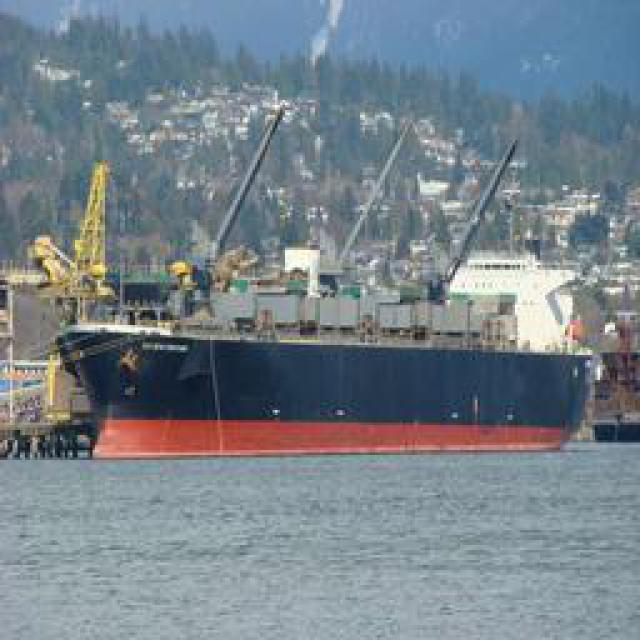Ship: (32, 87, 600, 490)
